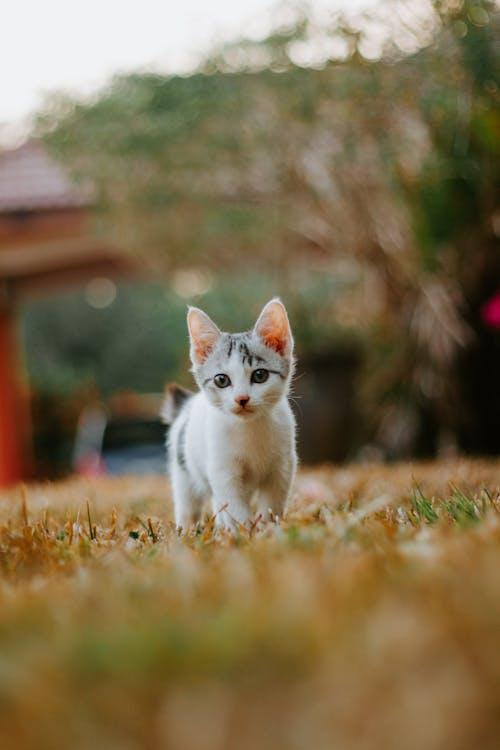kedo: (165, 298, 299, 539)
